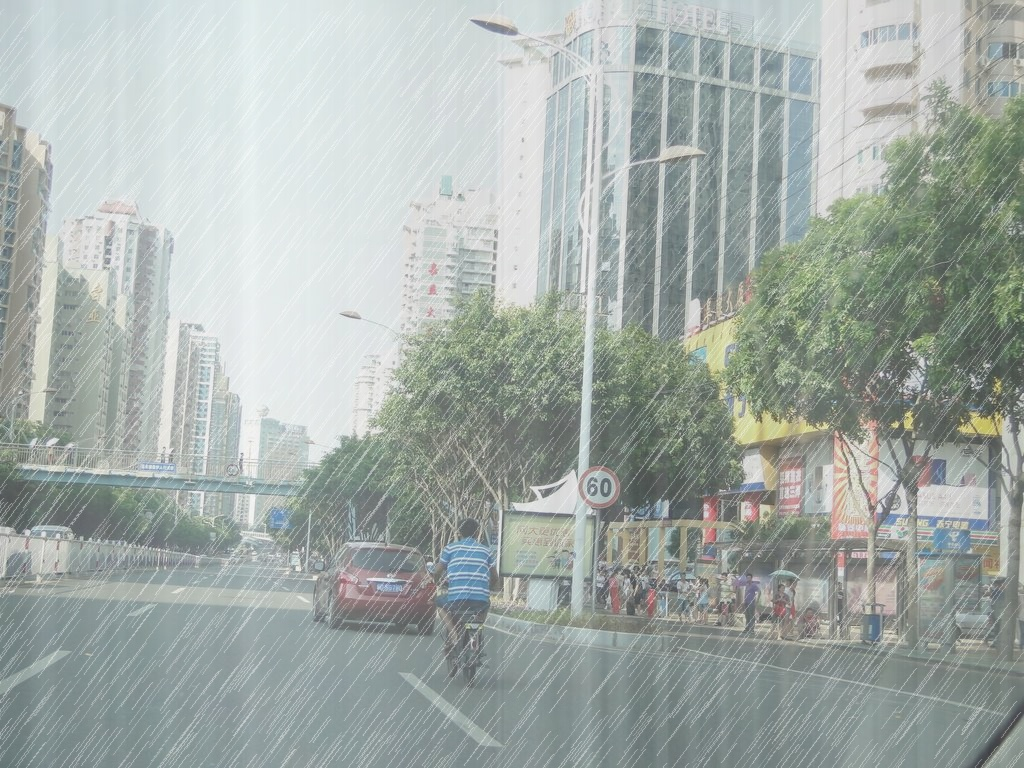Prohibitory Signs: (577, 464, 622, 510), (225, 463, 241, 478)
